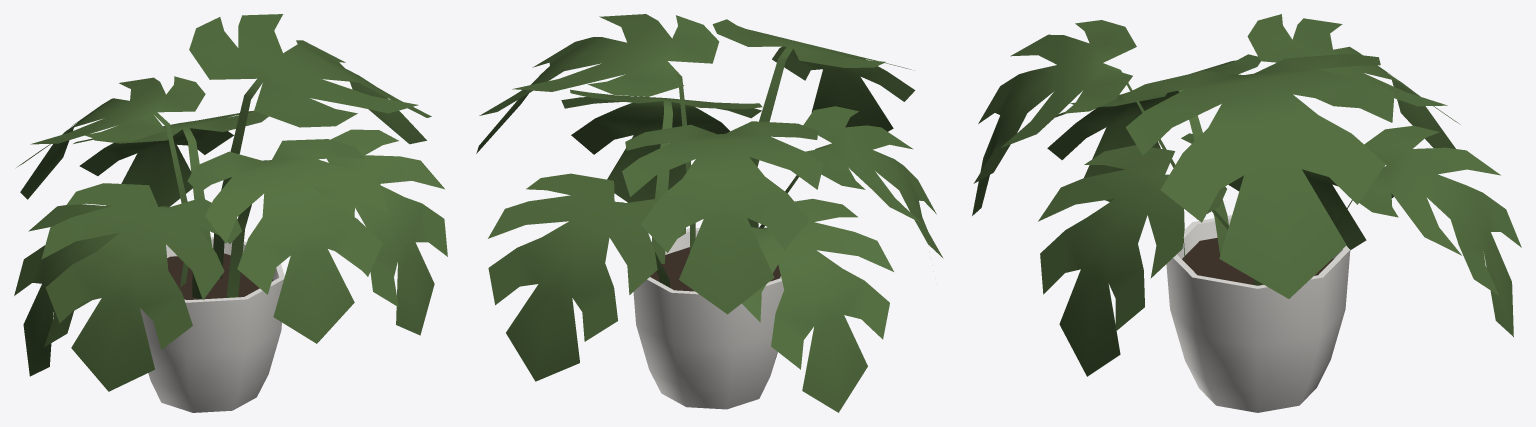
The model's file is pk_plant_monstera.glb.
3 views of the same model, side by side, from view 1: azimuth 30°, elevation 25°; view 2: azimuth 150°, elevation 25°; view 3: azimuth 270°, elevation 25° (orthographic). The views are drawn at different scales.
Visible parts, largest first — view 1: pk_plant_monstera; view 2: pk_plant_monstera; view 3: pk_plant_monstera.
Part boxes in pixels (bbox=[...]): pk_plant_monstera: bbox=[14, 14, 447, 412]; pk_plant_monstera: bbox=[476, 14, 943, 412]; pk_plant_monstera: bbox=[972, 14, 1521, 412].
Size of the model in its own units: 1.26 by 0.95 by 1.31.
Materials: 1 (1 with a texture image).
